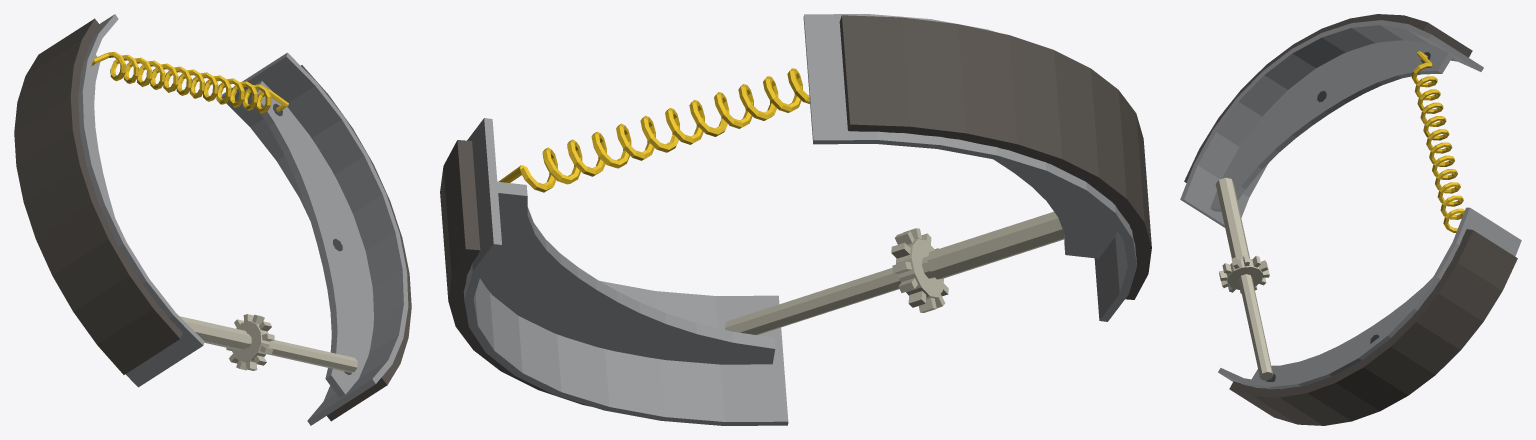
File: item-shoes.glb
The picture shows the model from 3 angles, left to right: view 1: azimuth 30°, elevation 25°; view 2: azimuth 150°, elevation 25°; view 3: azimuth 270°, elevation 25°; orthographic projection. The views are drawn at different scales.
Visible parts, largest first — view 1: shoes; view 2: shoes; view 3: shoes.
Part boxes in pixels (box(x1,y1,x2,y2)): shoes: box(14, 14, 411, 425); shoes: box(440, 14, 1151, 425); shoes: box(1180, 14, 1521, 425).
Size of the model in its own units: 0.2218 by 0.1991 by 0.1862.
